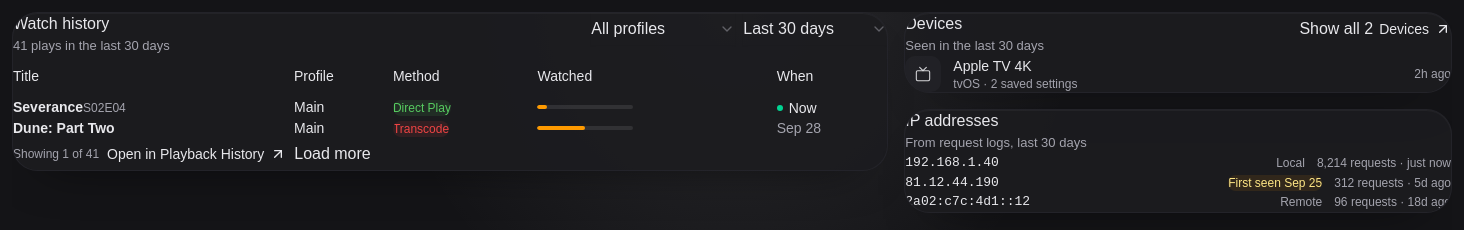
Scenario: ActivityTab watch history › passes the profile filter to history and the summary
expect the link "Dune: Part Two" is shown: met, box 13,120 -> 115,136
Click the dropdown labelled "profile" at [663, 29], box 591,13 -> 735,45
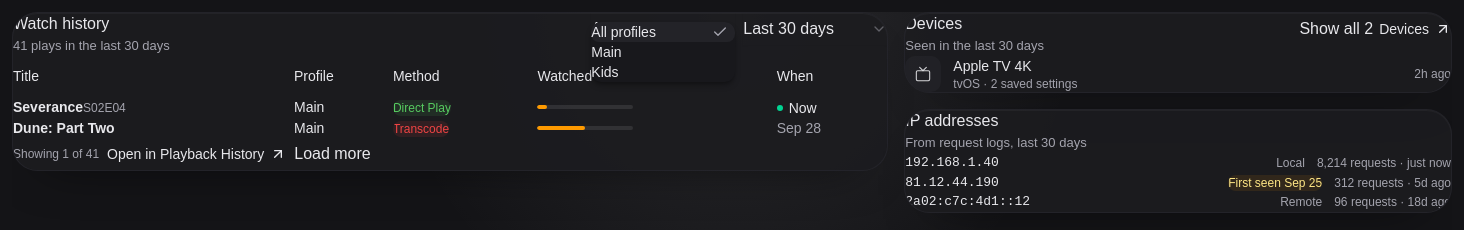
Click the option "Kids" at [605, 72], box 591,64 -> 618,80
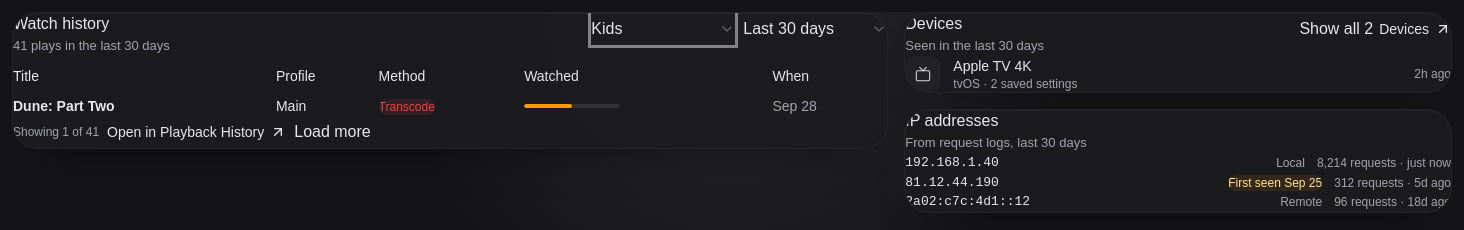
expect the link "Severance" is gone: met
